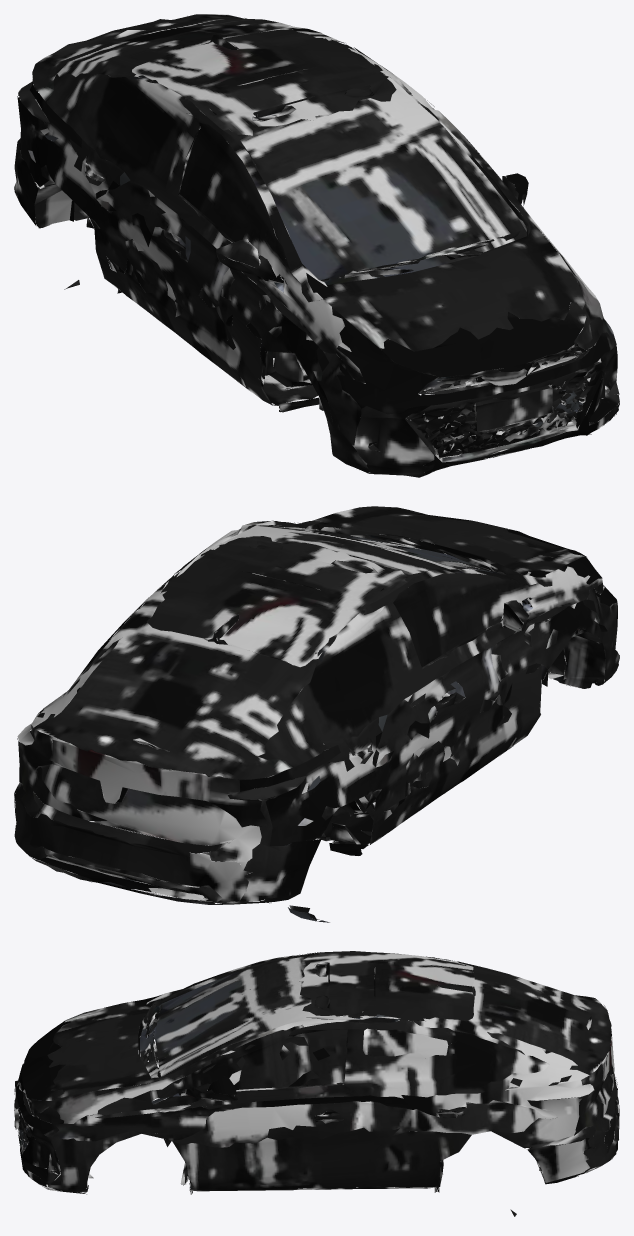
Rendered from vehiculo2_body.gltf.
The picture shows the model from 3 angles, top to bottom: view 1: azimuth 30°, elevation 25°; view 2: azimuth 150°, elevation 25°; view 3: azimuth 270°, elevation 25°; orthographic projection. The views are drawn at different scales.
Parts seen in each view (by area): view 1: vehiculo2_body; view 2: vehiculo2_body; view 3: vehiculo2_body.
Part boxes in pixels (box(x1,y1,x2,y2)): vehiculo2_body: box(14, 14, 619, 477); vehiculo2_body: box(14, 506, 619, 922); vehiculo2_body: box(14, 951, 619, 1216).
Size of the model in its own units: 0.4492 by 0.3504 by 1.
1 material, 1 textured.
